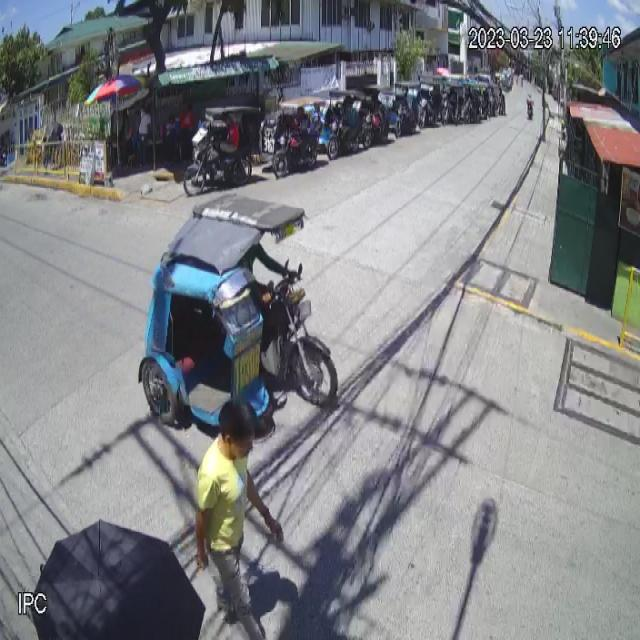Tricycle: (137, 191, 340, 439)
